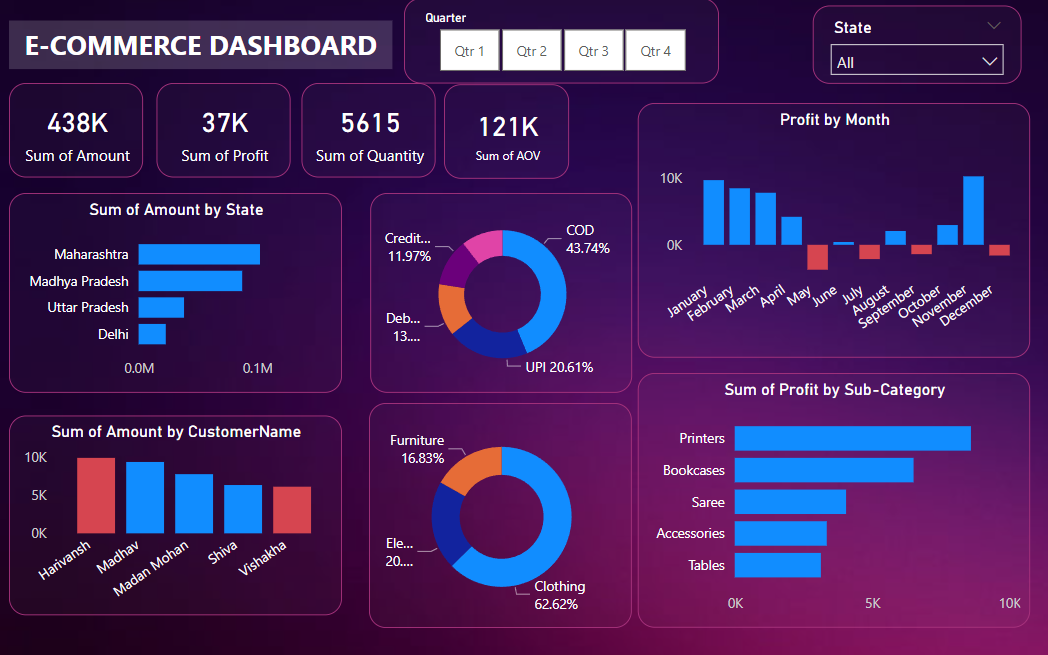

Layout of this report page (visuals, bound fields, positions):
{"tool":"powerbi","page":{"name":"Page 1","canvas":[1280,720],"ordinal":0},"visuals":[{"type":"textbox","box":[9.2,20.4,340.8,42.9],"z":0},{"type":"columnChart","title":"Profit by Month","fields":{"Category":["Orders.Order Date.Variation.Date Hierarchy.Month"],"Y":["Details.Profit"]},"box":[567.3,93.9,349,226.5],"z":1000},{"type":"barChart","fields":{"Category":["Details.Sub-Category"],"Y":["Details.Profit"]},"box":[567.3,333.7,349,226.5],"z":2000},{"type":"donutChart","fields":{"Category":["Details.Category"],"Y":["Details.Quantity"]},"box":[319.4,351,232.7,200],"z":3000},{"type":"donutChart","fields":{"Category":["Details.PaymentMode"],"Y":["Details.Quantity"]},"box":[329.6,173.5,232.7,177.6],"z":4000},{"type":"card","fields":{"Values":["Details.Amount"]},"box":[9.2,75.5,119.4,83.7],"z":5000},{"type":"card","fields":{"Values":["Details.AOV"]},"box":[395.9,76.5,111.2,83.7],"z":6000},{"type":"card","fields":{"Values":["Details.Profit"]},"box":[139.8,75.5,119.4,83.7],"z":7000},{"type":"card","fields":{"Values":["Details.Quantity"]},"box":[269.4,75.5,119.4,83.7],"z":8000},{"type":"barChart","fields":{"Category":["Orders.State"],"Y":["Details.Amount"]},"box":[9.2,173.5,295.9,177.6],"z":9000},{"type":"columnChart","fields":{"Category":["Orders.CustomerName"],"Y":["Details.Amount"]},"box":[9.2,371.4,295.9,177.6],"z":10000},{"type":"slicer","fields":{"Values":["Orders.Order Date.Variation.Date Hierarchy.Quarter"]},"box":[360.2,0,293.9,75.5],"z":11000},{"type":"slicer","fields":{"Values":["Orders.State"]},"box":[723.5,7.1,185.7,69.4],"z":12000}]}

Visuals, with their boxes on the page's 1280x720 design canvas (x1, y1, x2, y2). These are canvas units, not pixel positions in the 1048x655 screenshot, which may show the page scaled, cropped or inside an application window:
textbox: box(9, 20, 350, 63)
"Profit by Month" columnChart: box(567, 94, 916, 320)
barChart - Details.Sub-Category x Details.Profit: box(567, 334, 916, 560)
donutChart - Details.Category x Details.Quantity: box(319, 351, 552, 551)
donutChart - Details.PaymentMode x Details.Quantity: box(330, 174, 562, 351)
card - Details.Amount: box(9, 76, 129, 159)
card - Details.AOV: box(396, 76, 507, 160)
card - Details.Profit: box(140, 76, 259, 159)
card - Details.Quantity: box(269, 76, 389, 159)
barChart - Orders.State x Details.Amount: box(9, 174, 305, 351)
columnChart - Orders.CustomerName x Details.Amount: box(9, 371, 305, 549)
slicer - Orders.Order Date.Variation.Date Hierarchy.Quarter: box(360, 0, 654, 76)
slicer - Orders.State: box(724, 7, 909, 76)
